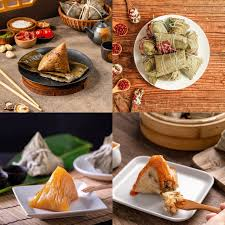zongzi: (29, 166, 78, 211), (14, 132, 63, 176), (130, 155, 177, 195), (38, 43, 69, 72), (154, 50, 186, 76), (154, 33, 187, 49), (181, 54, 201, 79), (167, 17, 189, 34), (140, 39, 156, 55), (187, 31, 198, 53), (149, 21, 167, 33)
